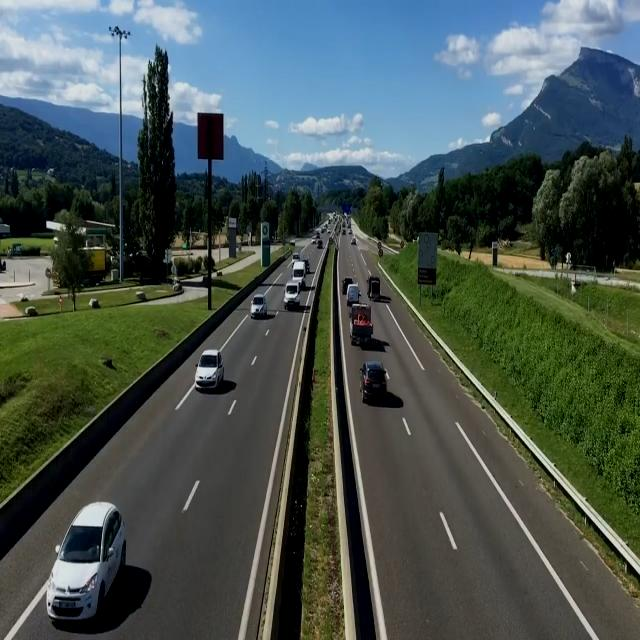Car: (42, 493, 129, 638), (356, 356, 392, 406), (192, 345, 228, 393), (246, 291, 274, 315), (284, 250, 301, 263), (350, 234, 359, 249)
Truck: (345, 303, 375, 341), (290, 254, 310, 284), (366, 270, 382, 302), (344, 285, 360, 305)
Van: (276, 282, 304, 313)
